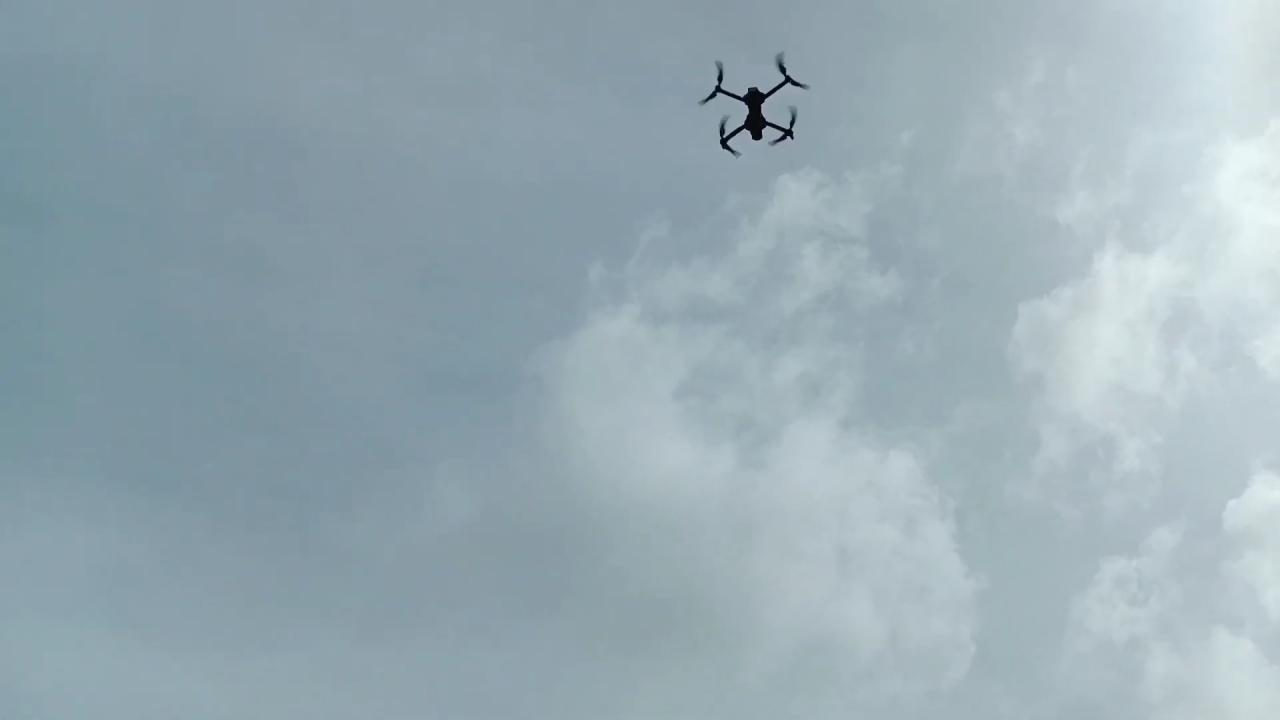Drone: (690, 43, 818, 166)
